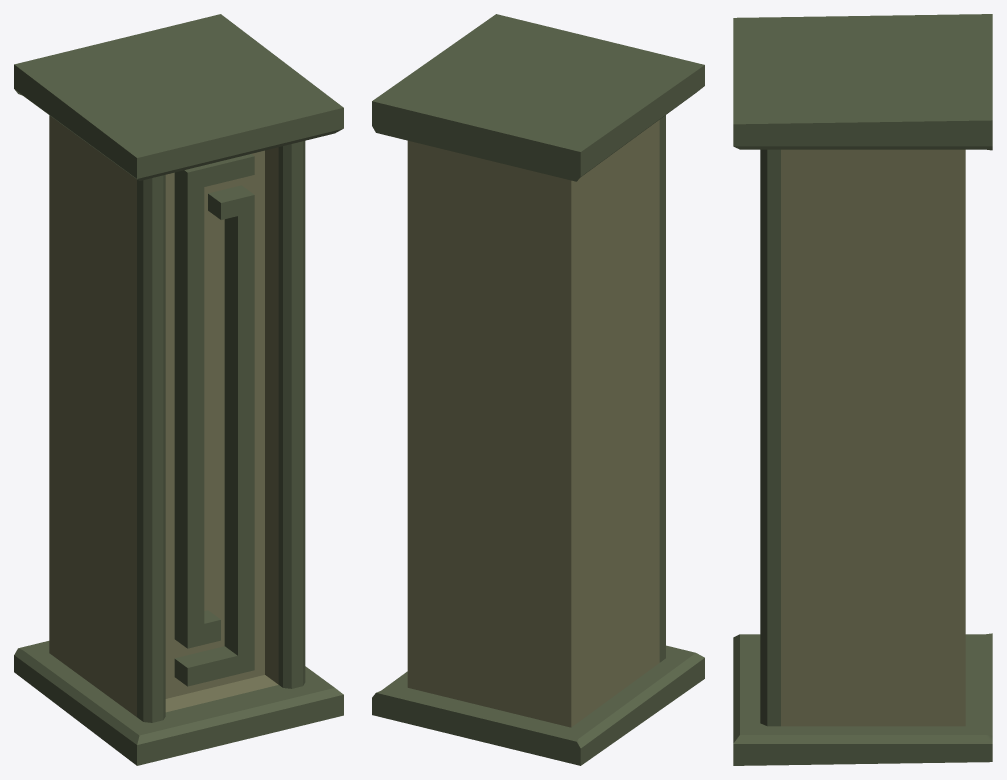
The model's file is temple_pilar.fbx.
3 views of the same model, side by side, from view 1: azimuth 30°, elevation 25°; view 2: azimuth 150°, elevation 25°; view 3: azimuth 270°, elevation 25° (orthographic). The views are drawn at different scales.
Visible parts, largest first — view 1: temple_pilar, temple_pilar_decor; view 2: temple_pilar; view 3: temple_pilar.
Boxes of the visible parts, box(x1,y1,x2,y2) form: temple_pilar: box(14, 14, 343, 765); temple_pilar_decor: box(174, 154, 254, 686); temple_pilar: box(372, 14, 704, 765); temple_pilar: box(733, 14, 992, 765).
Bounding box in the file's own units: 1.31 × 3.7 × 1.35.
